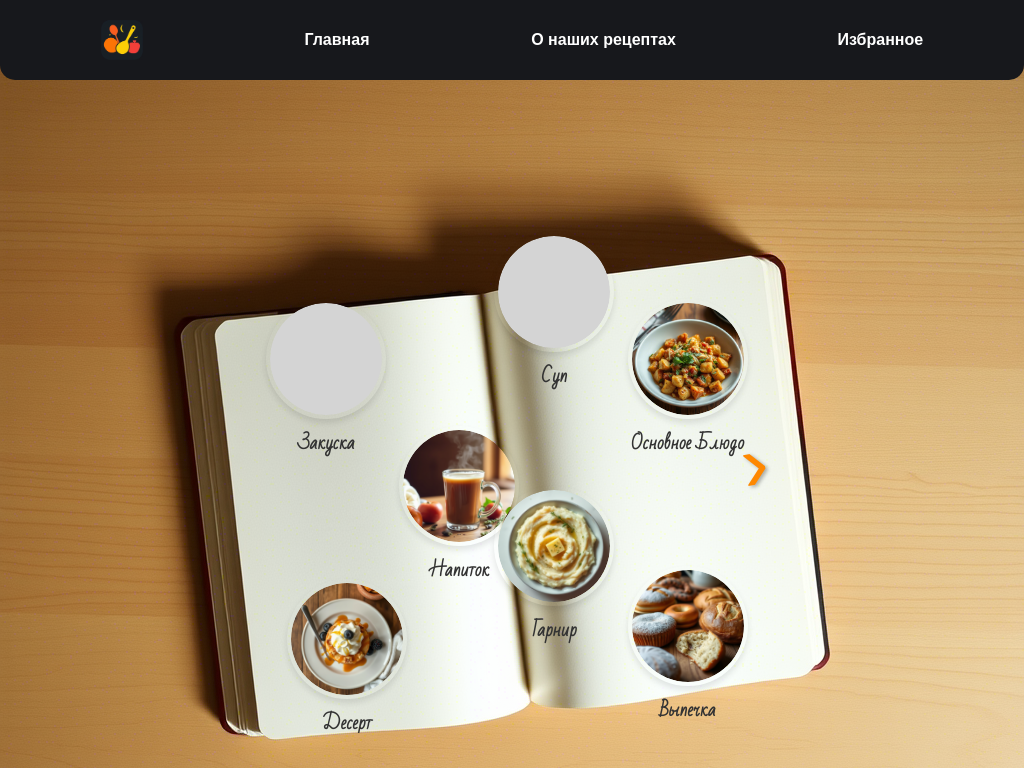
Scenario: Recipe Selection Flow › shows warning when trying to proceed without selecting category
Click the element with class "nav-arrow--right".
click(755, 462)  # box 734,416 -> 776,508
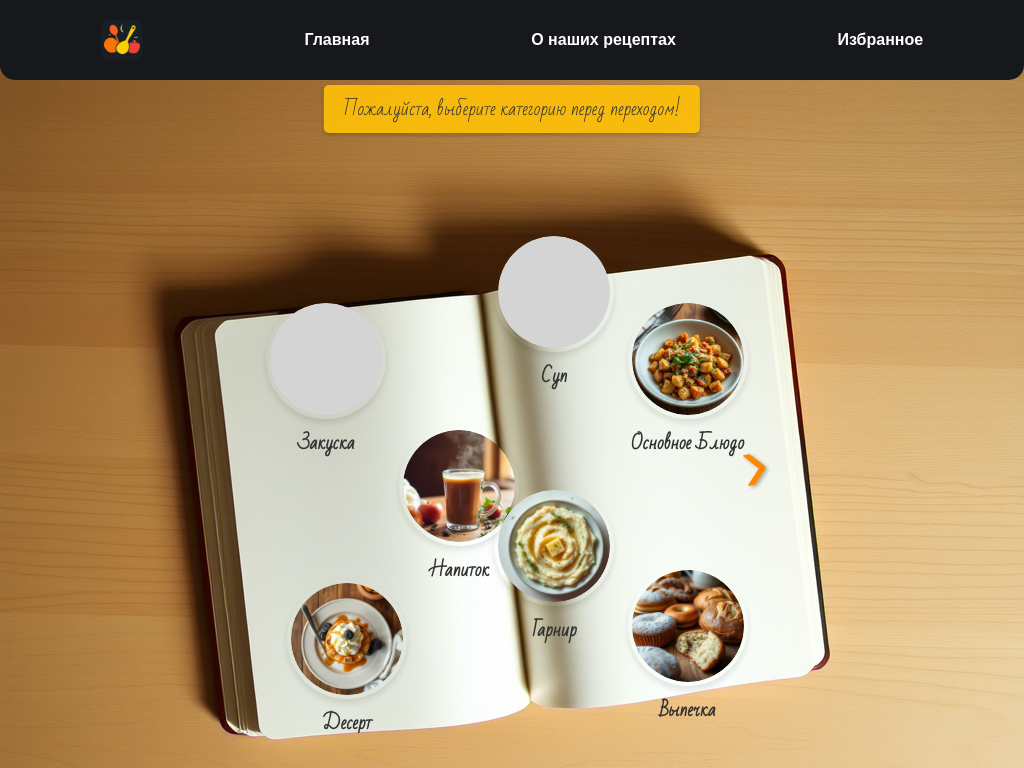
Expected: the text "Пожалуйста, выберите категорию перед переходом!" is shown, 324,85 -> 700,133
